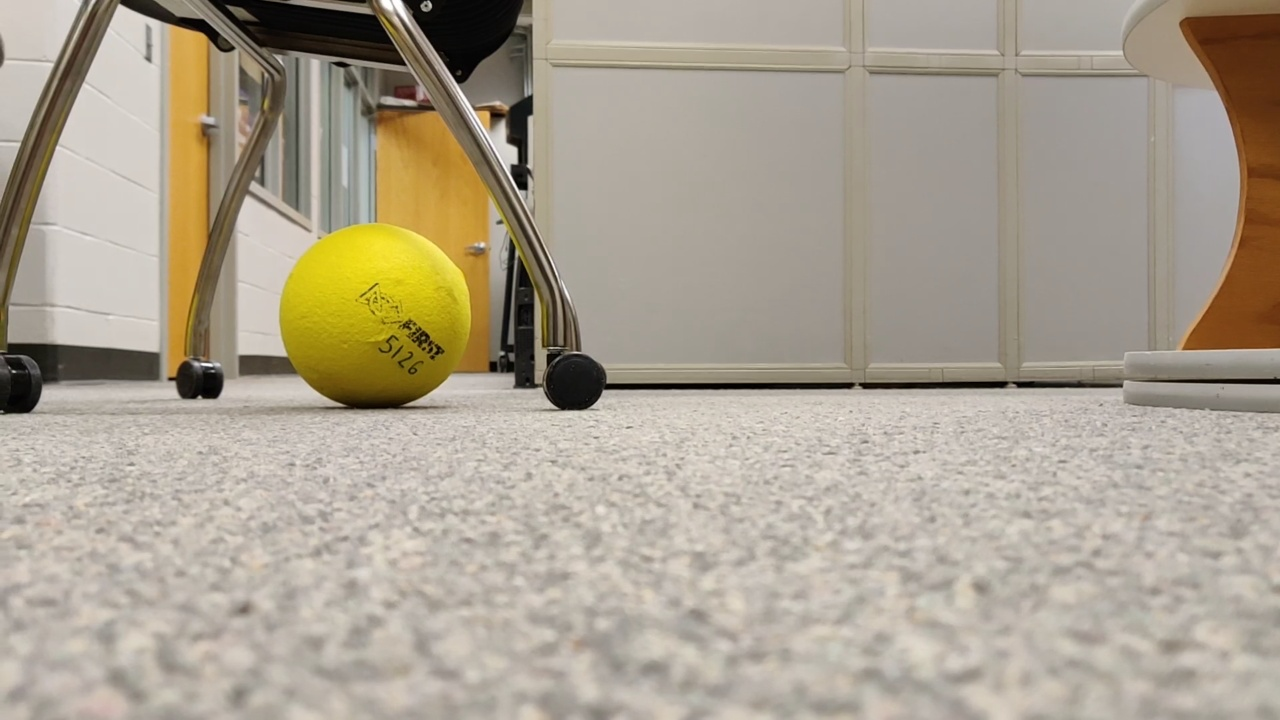Ball: (282, 225, 471, 398)
